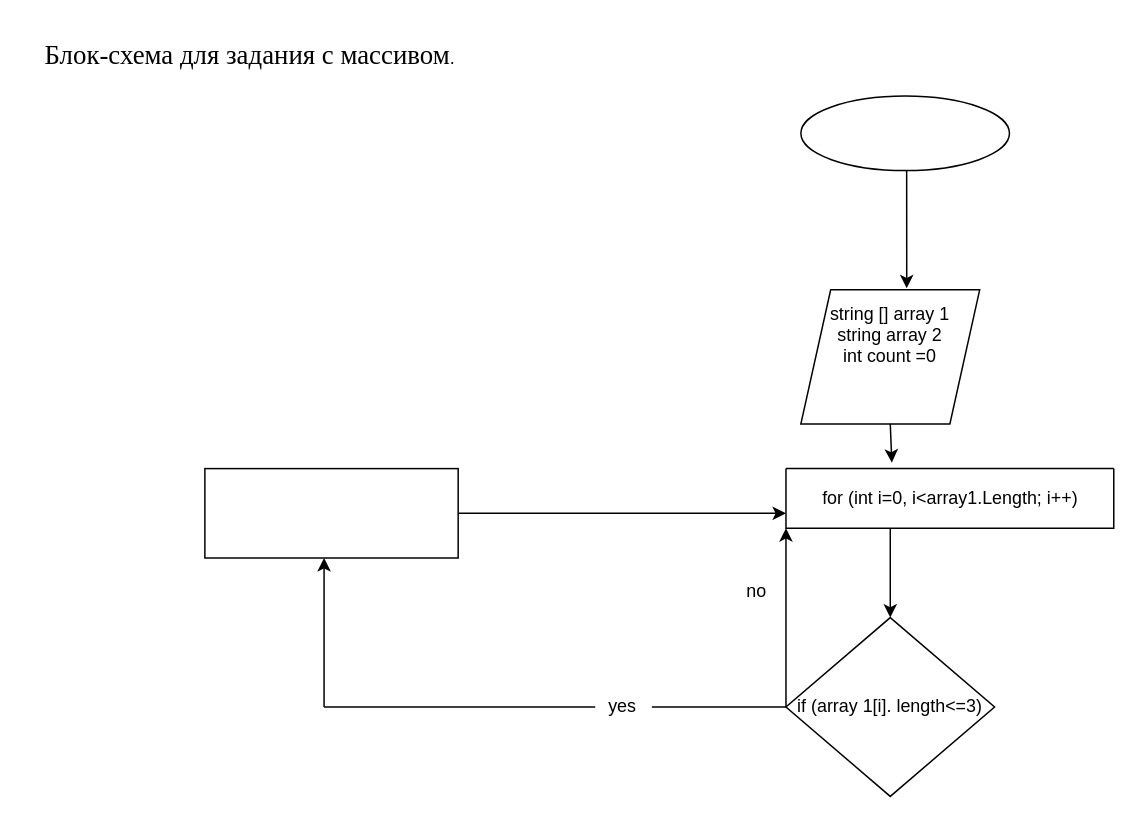
The diagram is 1140 pixels wide and 822 high, and some of its shapes have lost their labels. The shapes that lost their labels are listed below. From the top down, each one's centre as x and y in pixels, then its label:
the point at 904,133: start
the point at 330,512: array 2 [count]=array1[i], count++
